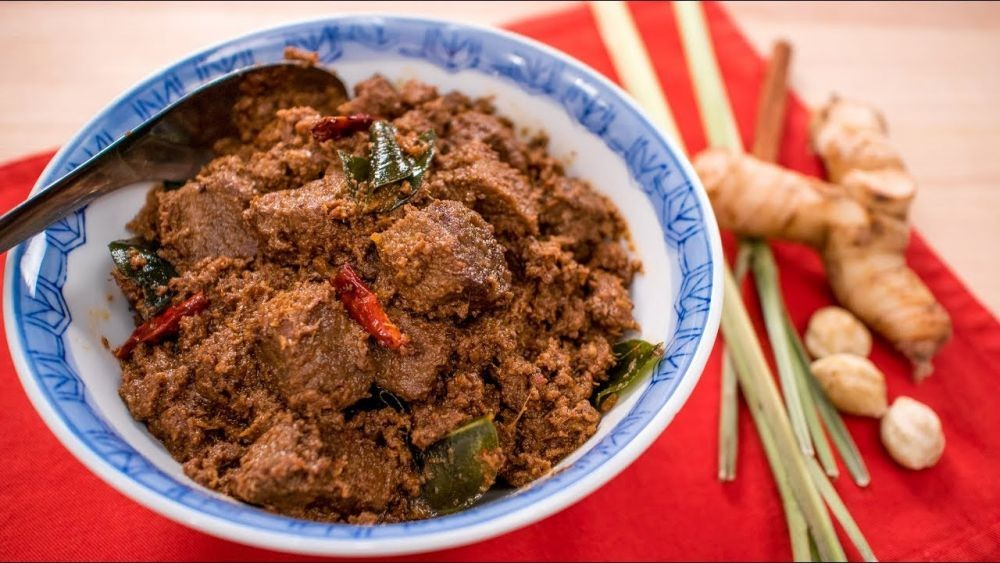rendang: (84, 67, 672, 516)
